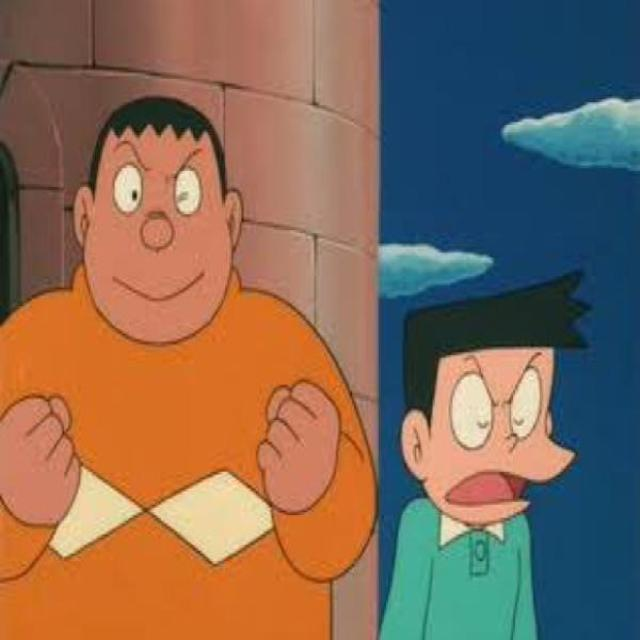jaian: (70, 99, 260, 354)
suneo: (394, 264, 588, 540)
